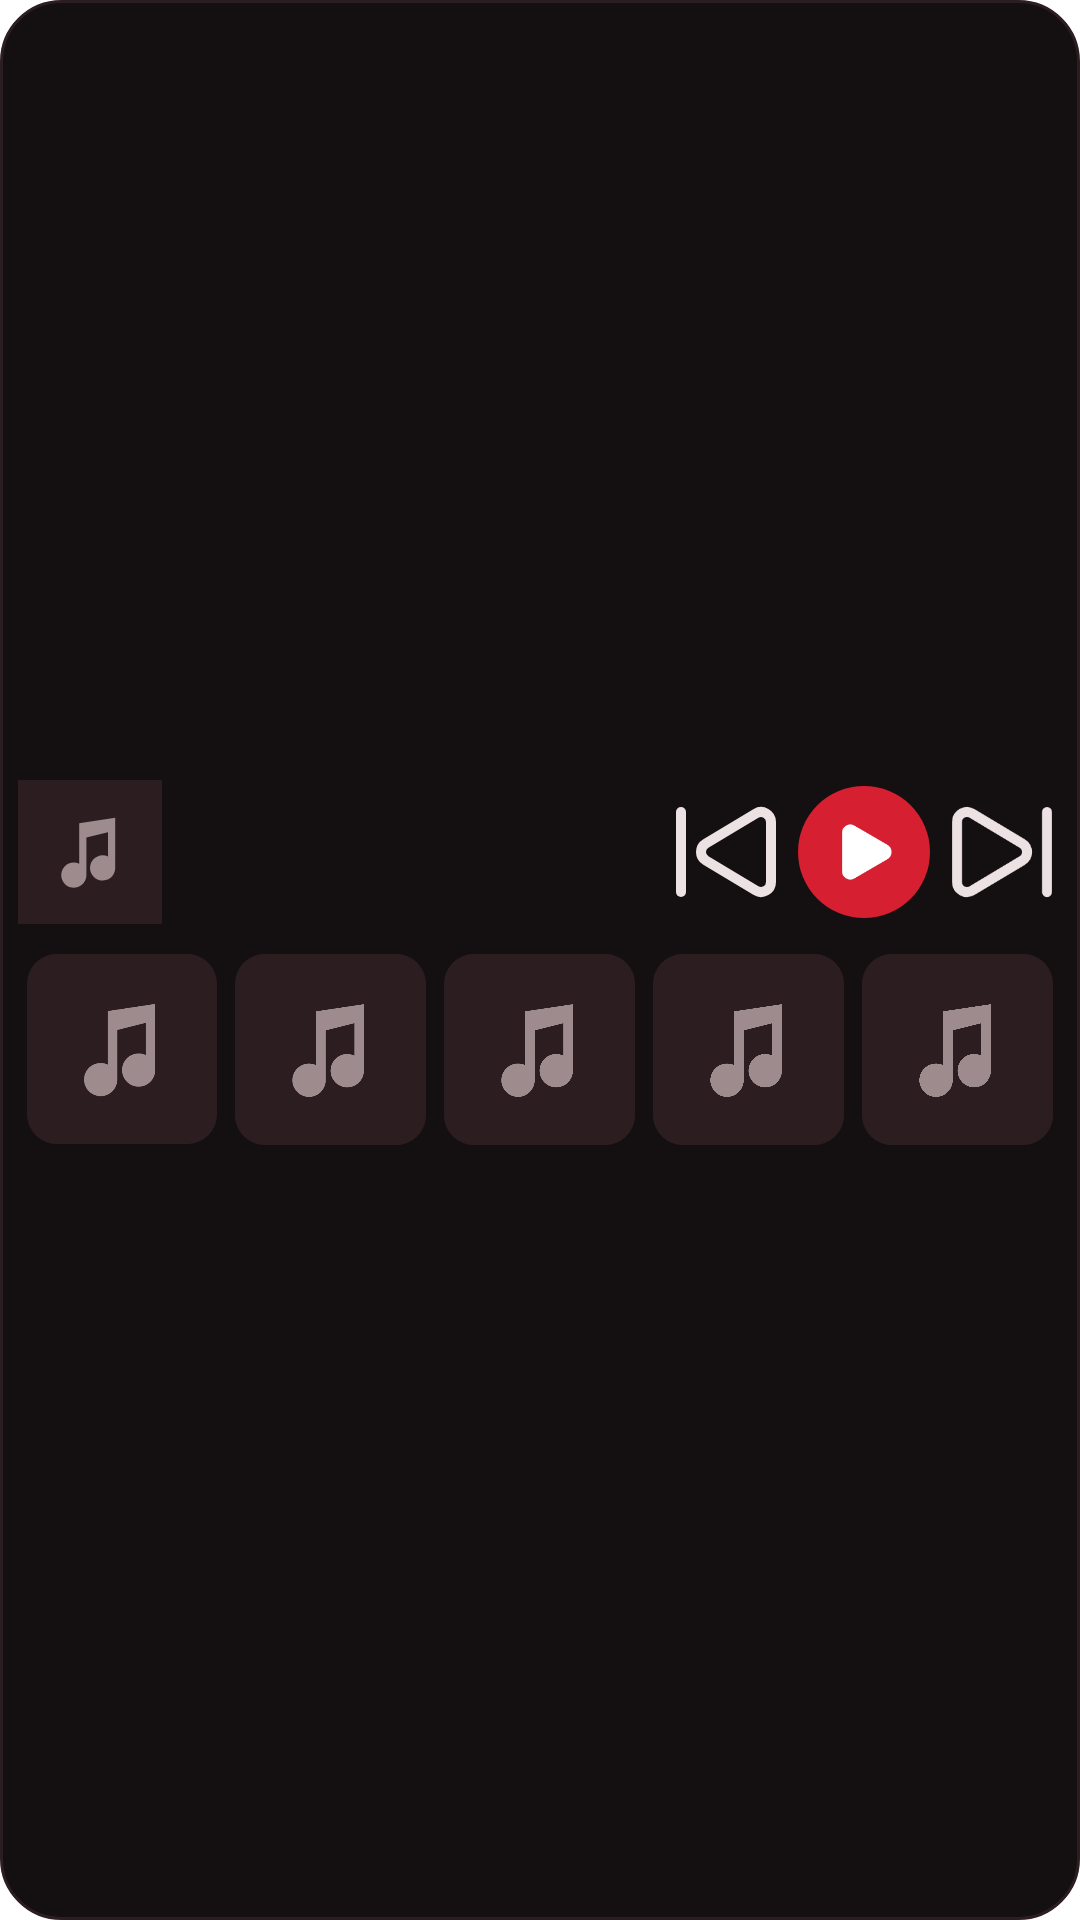

Locate icon controls on the screen. Image size 1080 x 1920, boxes as region(x1, y1, x2, y2).
Anterior: region(676, 806, 776, 898)
Capa: region(61, 817, 116, 888)
Próxima: region(952, 807, 1052, 898)
Tocar ou pausar: region(798, 786, 930, 918)
